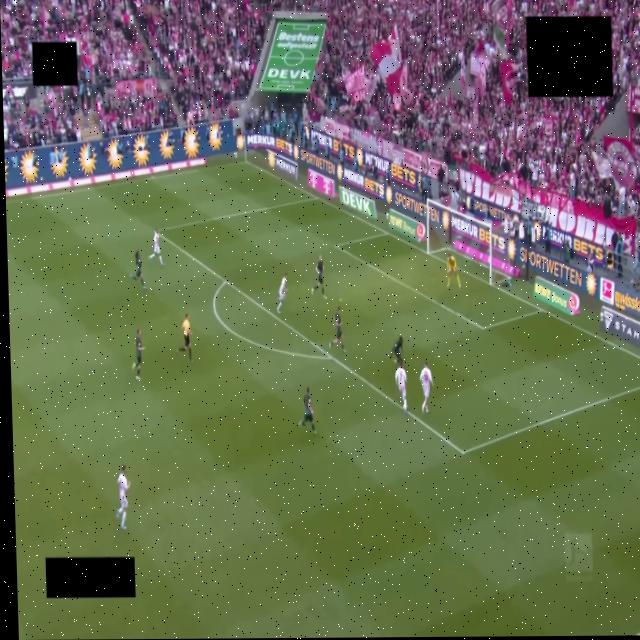player: (116, 464, 129, 529), (299, 388, 316, 433), (329, 307, 345, 352), (420, 363, 433, 412), (130, 250, 146, 289), (312, 256, 326, 299), (395, 366, 408, 411), (133, 329, 143, 380), (149, 229, 163, 265), (447, 254, 461, 287), (277, 273, 287, 313), (391, 336, 403, 365)
referee: (177, 314, 192, 361)
